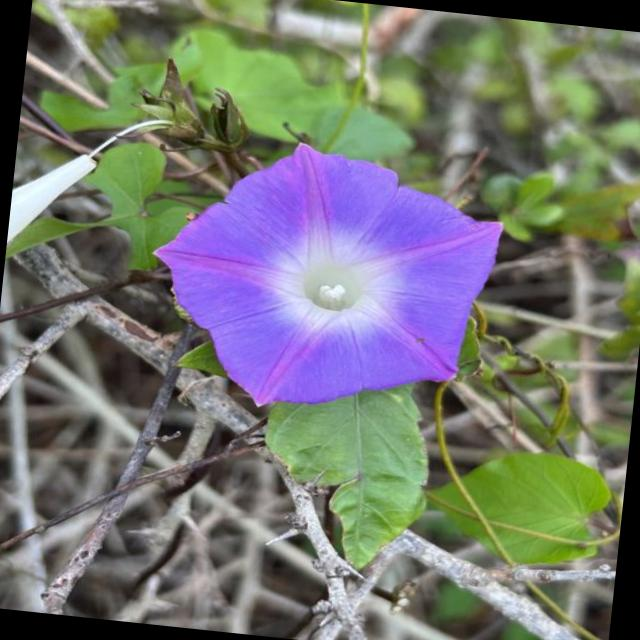ipomoea: (133, 126, 513, 432)
